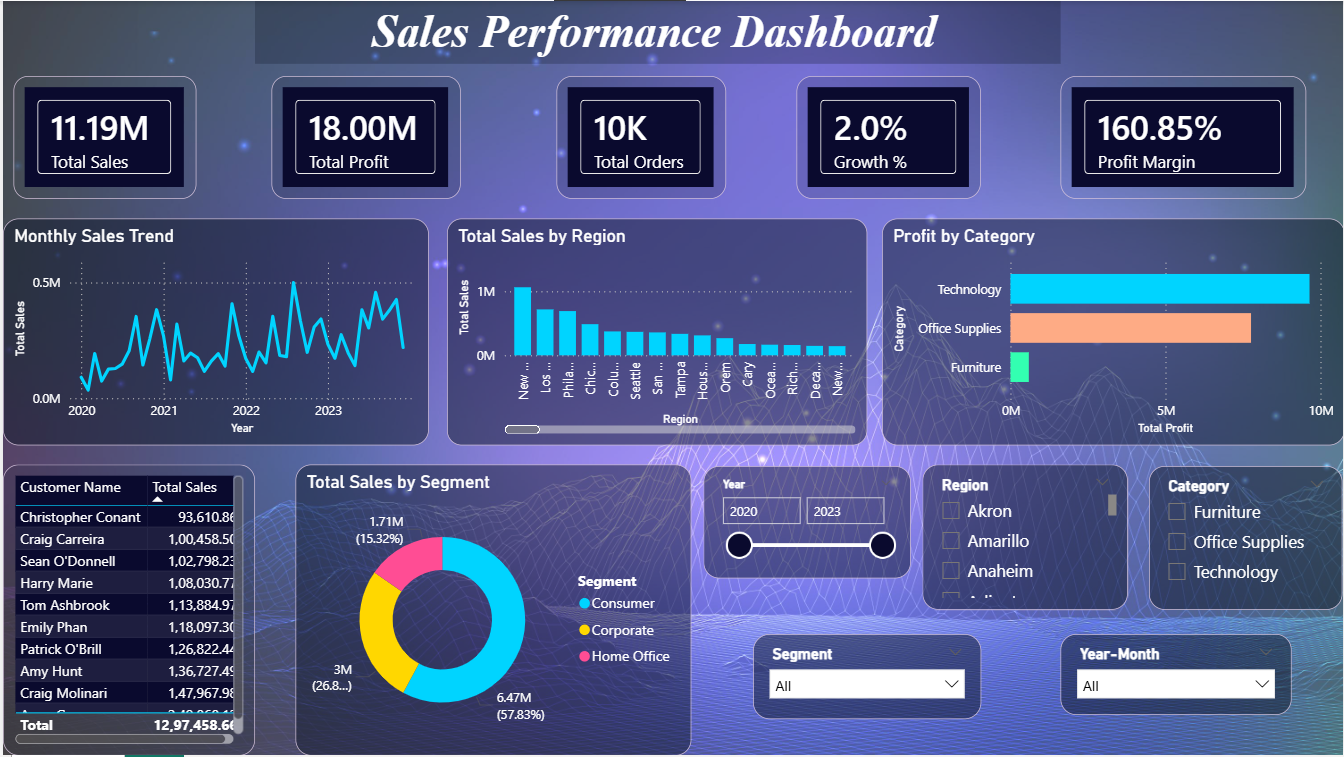

The page's visual inventory and layout, read from the dashboard file:
{"tool":"powerbi","page":{"name":"Page 1","canvas":[1280,720],"ordinal":0},"visuals":[{"type":"textbox","box":[241.3,0,769.1,59.9],"z":0},{"type":"cardVisual","fields":{"Data":["Orders.Total Sales"]},"box":[10,71.6,174.8,117.5],"z":1000},{"type":"cardVisual","fields":{"Data":["Orders.Total Profit"]},"box":[256.4,71.6,180.5,117.5],"z":2000},{"type":"cardVisual","fields":{"Data":["Orders.Total Orders"]},"box":[528.6,71.6,161.9,117.5],"z":3000},{"type":"cardVisual","fields":{"Data":["Orders.Growth %"]},"box":[757.7,71.6,176.2,117.5],"z":4000},{"type":"cardVisual","fields":{"Data":["Orders.Profit Margin"]},"box":[1009.8,71.6,234.9,117.5],"z":5000},{"type":"lineChart","title":"Monthly Sales Trend","fields":{"Y":["Orders.Total Sales"],"Category":["Calendar.Date.Variation.Date Hierarchy.Year","Calendar.Date.Variation.Date Hierarchy.Month"]},"box":[0,207.3,406.4,217],"z":6000},{"type":"clusteredColumnChart","fields":{"Category":["Customers.Region"],"Y":["Orders.Total Sales"]},"box":[424.2,207.3,401.6,217],"z":7000},{"type":"clusteredBarChart","title":"Profit by Category","fields":{"Y":["Orders.Total Profit"],"Category":["Products.Category"]},"box":[838.8,207.3,442,217],"z":8000},{"type":"tableEx","fields":{"Values":["Customers.Customer Name","Orders.Total Sales"]},"box":[0,442.6,240.6,277.9],"z":9000},{"type":"donutChart","fields":{"Category":["Customers.Segment"],"Y":["Orders.Total Sales"]},"box":[279.3,442.6,378.2,277.9],"z":10000},{"type":"slicer","fields":{"Values":["Calendar.Year"]},"box":[668.9,444,197.7,107.4],"z":11000},{"type":"slicer","fields":{"Values":["Calendar.Year-Month"]},"box":[1009.8,604.5,220.6,77.3],"z":12000},{"type":"slicer","fields":{"Values":["Customers.Region"]},"box":[878.1,442.6,196.2,138.9],"z":13000},{"type":"slicer","fields":{"Values":["Products.Category"]},"box":[1094.3,444,184.8,137.5],"z":14000},{"type":"slicer","fields":{"Values":["Customers.Segment"]},"box":[716.2,604.5,217.7,81.6],"z":15000}]}

Visuals, with their boxes in screenshot pixels (x1, y1, x2, y2), scaled from the page's 1280x720 canvas onto the 1344x757 screenshot:
textbox: l=253, t=0, r=1061, b=63
cardVisual - Orders.Total Sales: l=10, t=75, r=194, b=199
cardVisual - Orders.Total Profit: l=269, t=75, r=459, b=199
cardVisual - Orders.Total Orders: l=555, t=75, r=725, b=199
cardVisual - Orders.Growth %: l=796, t=75, r=981, b=199
cardVisual - Orders.Profit Margin: l=1060, t=75, r=1307, b=199
"Monthly Sales Trend" lineChart: l=0, t=218, r=427, b=446
clusteredColumnChart - Customers.Region x Orders.Total Sales: l=445, t=218, r=867, b=446
"Profit by Category" clusteredBarChart: l=881, t=218, r=1343, b=446
tableEx - Customers.Customer Name x Orders.Total Sales: l=0, t=465, r=253, b=756
donutChart - Customers.Segment x Orders.Total Sales: l=293, t=465, r=690, b=756
slicer - Calendar.Year: l=702, t=467, r=910, b=580
slicer - Calendar.Year-Month: l=1060, t=636, r=1292, b=717
slicer - Customers.Region: l=922, t=465, r=1128, b=611
slicer - Products.Category: l=1149, t=467, r=1343, b=611
slicer - Customers.Segment: l=752, t=636, r=981, b=721
